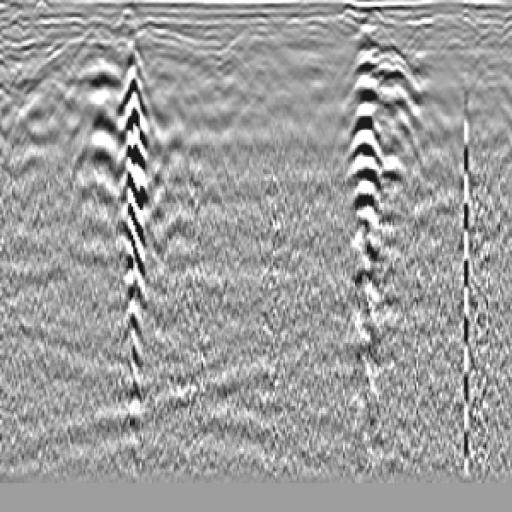metalic: (345, 26, 398, 214)
